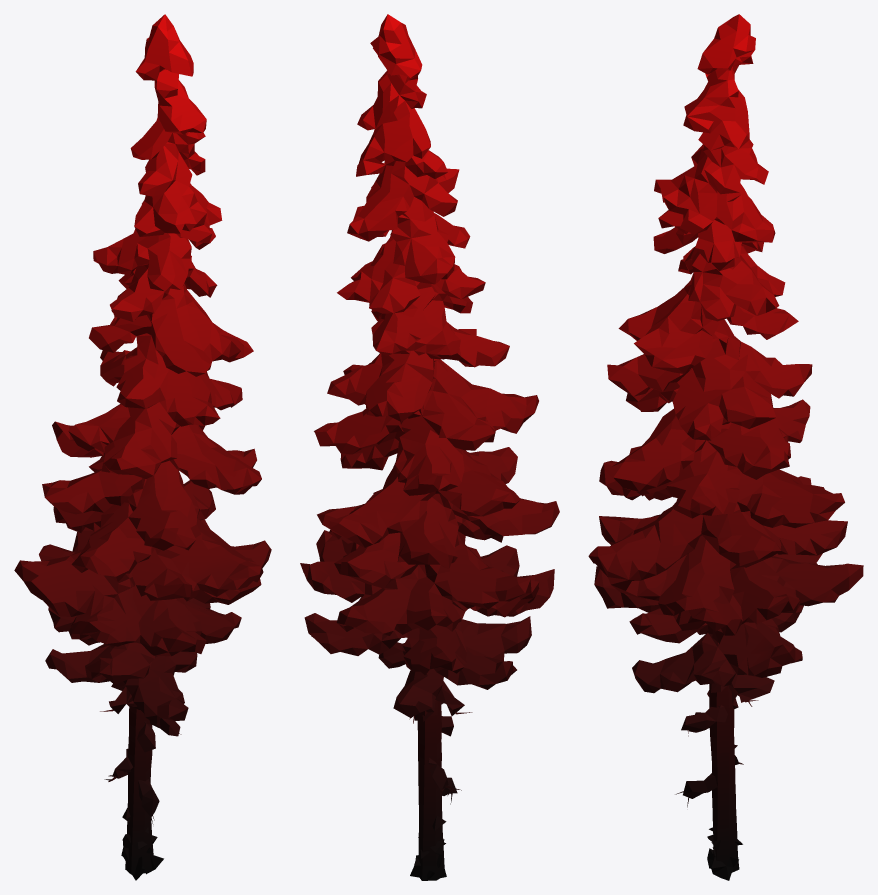
File: TreeSpruceTall05_Snow.fbx
3 renders of one model, left to right at view 1: azimuth 30°, elevation 25°; view 2: azimuth 150°, elevation 25°; view 3: azimuth 270°, elevation 25°, orthographic. The views are drawn at different scales.
Visible parts, largest first — view 1: TreeSpruceTall05_Snow_LOD0; view 2: TreeSpruceTall05_Snow_LOD0; view 3: TreeSpruceTall05_Snow_LOD0.
Part boxes in pixels (<box>): TreeSpruceTall05_Snow_LOD0: <box>14,14,271,880</box>; TreeSpruceTall05_Snow_LOD0: <box>300,14,559,880</box>; TreeSpruceTall05_Snow_LOD0: <box>588,14,863,880</box>.
Size of what is drawn, in the model's own units: 423 by 1519 by 431.
